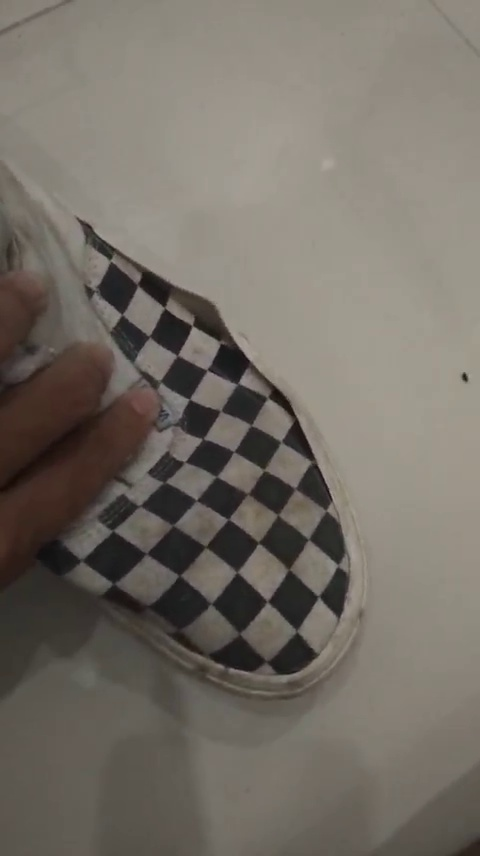bonding: (131, 258, 263, 370), (255, 355, 327, 469)
